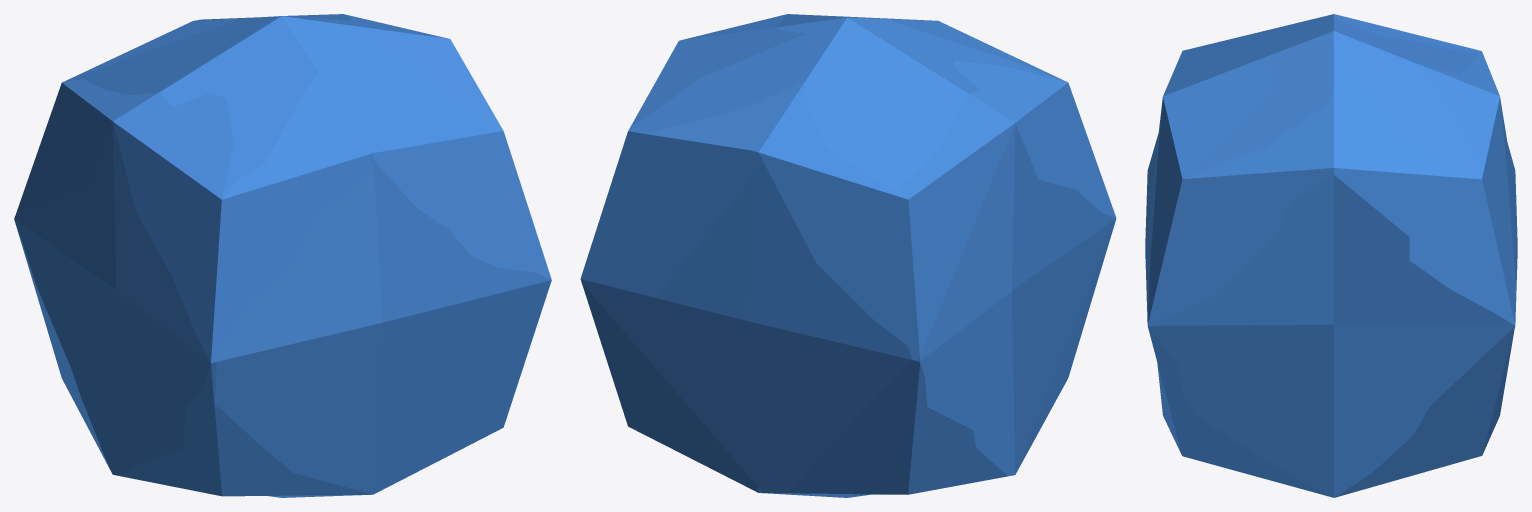
The model's file is Player_7.fbx.
The picture shows the model from 3 angles, left to right: view 1: azimuth 30°, elevation 25°; view 2: azimuth 150°, elevation 25°; view 3: azimuth 270°, elevation 25°; orthographic projection. The views are drawn at different scales.
Visible parts, largest first — view 1: Cube; view 2: Cube; view 3: Cube.
Part boxes in pixels (box(x1,y1,x2,y2)): Cube: box(14, 14, 551, 497); Cube: box(580, 14, 1116, 497); Cube: box(1145, 14, 1517, 497).
Size of the model in its own units: 101 by 136 by 102.
